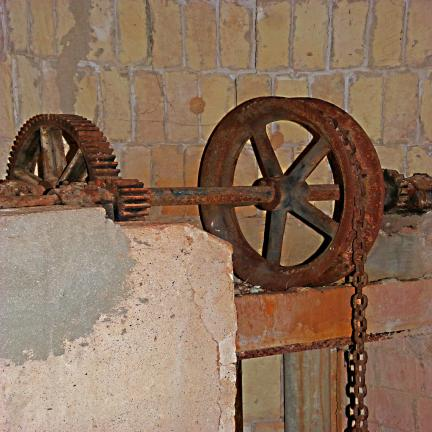karat: (199, 97, 383, 290), (6, 114, 119, 194), (236, 284, 360, 349), (0, 179, 276, 207), (348, 141, 368, 431)
